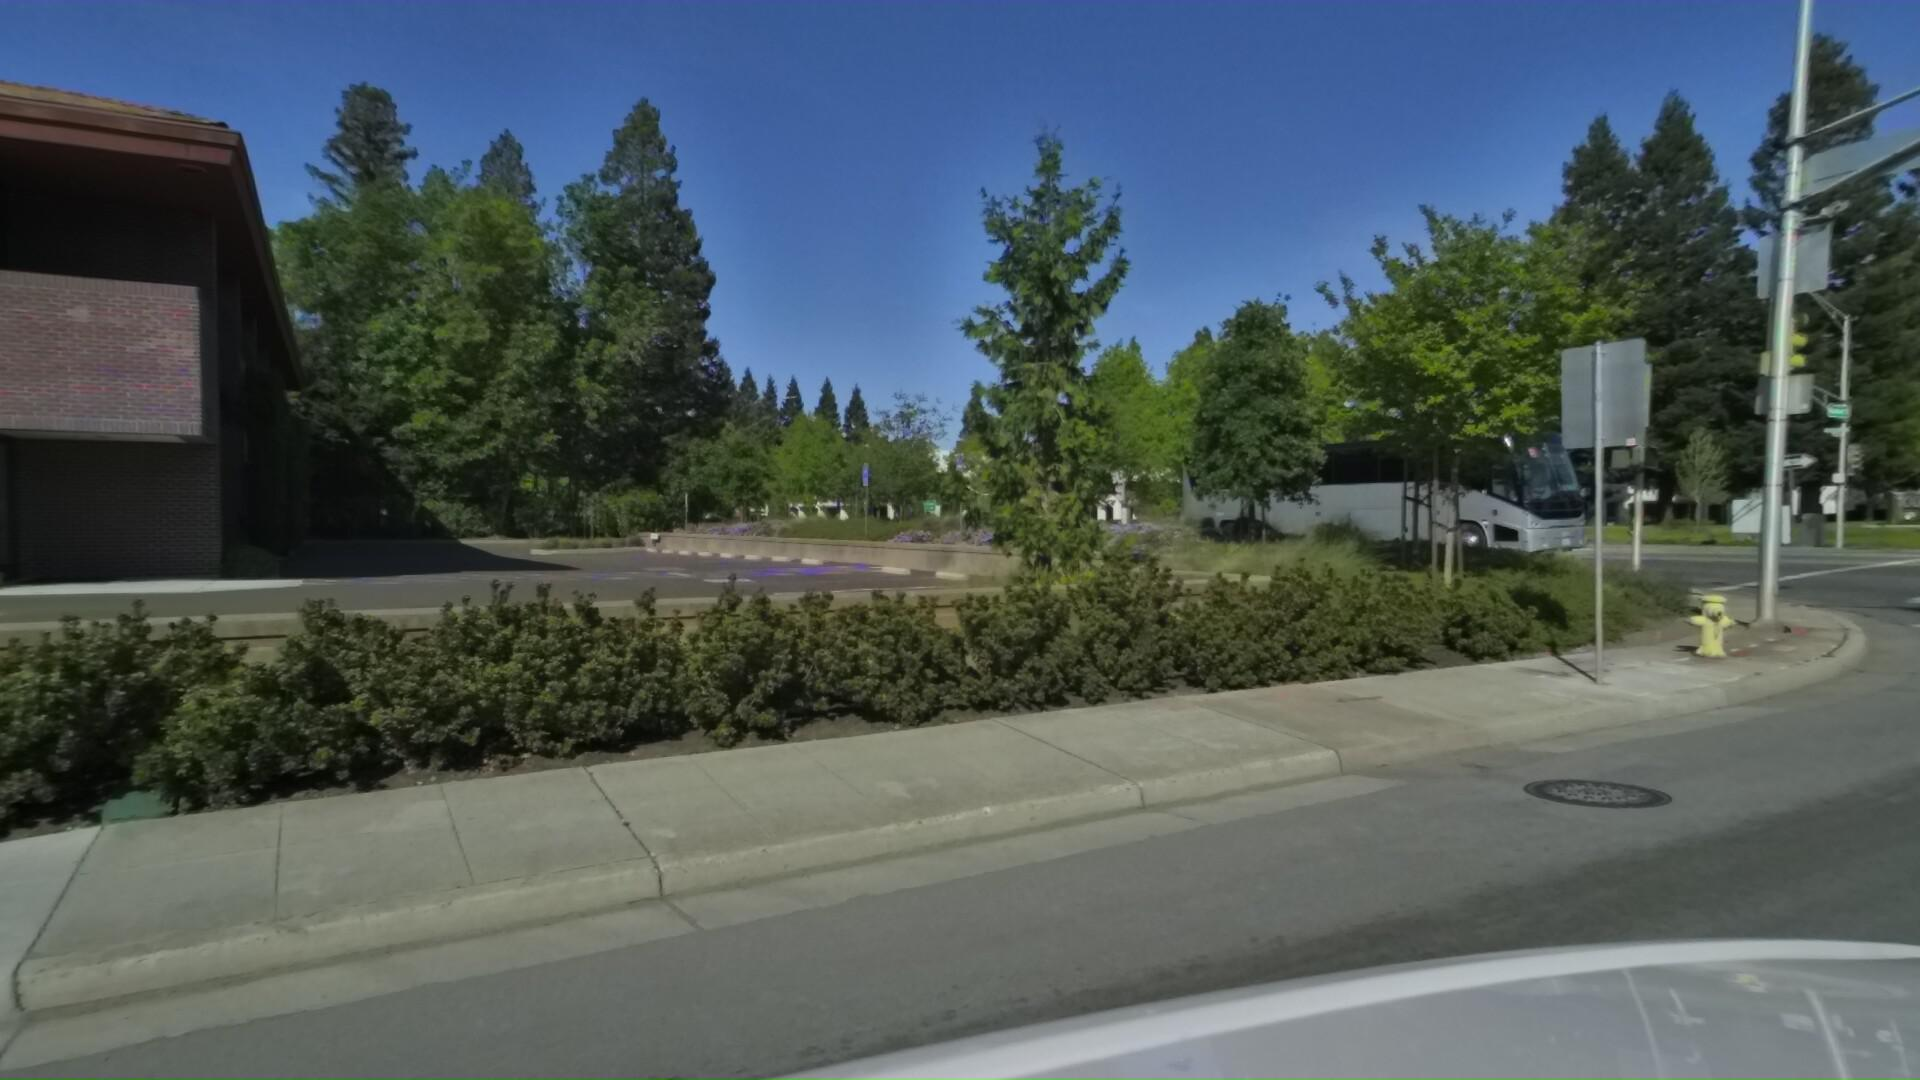bus: (1182, 410, 1615, 554)
